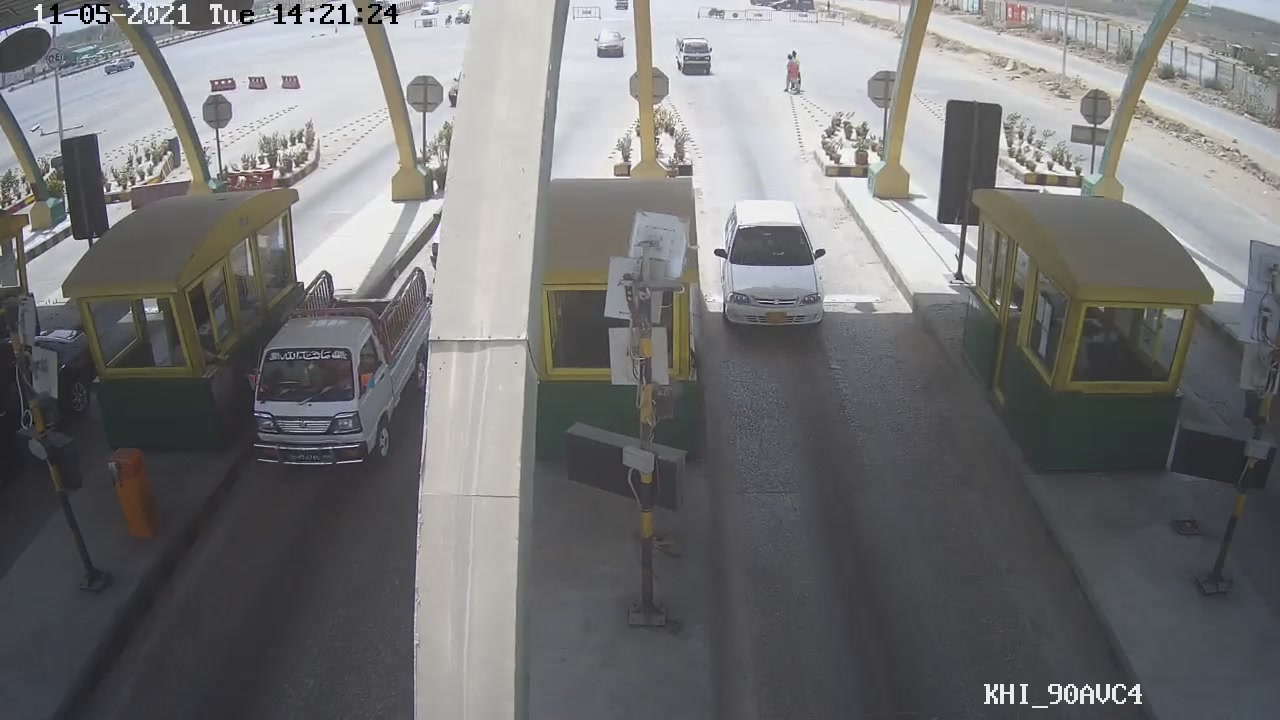F1: (713, 195, 829, 328)
